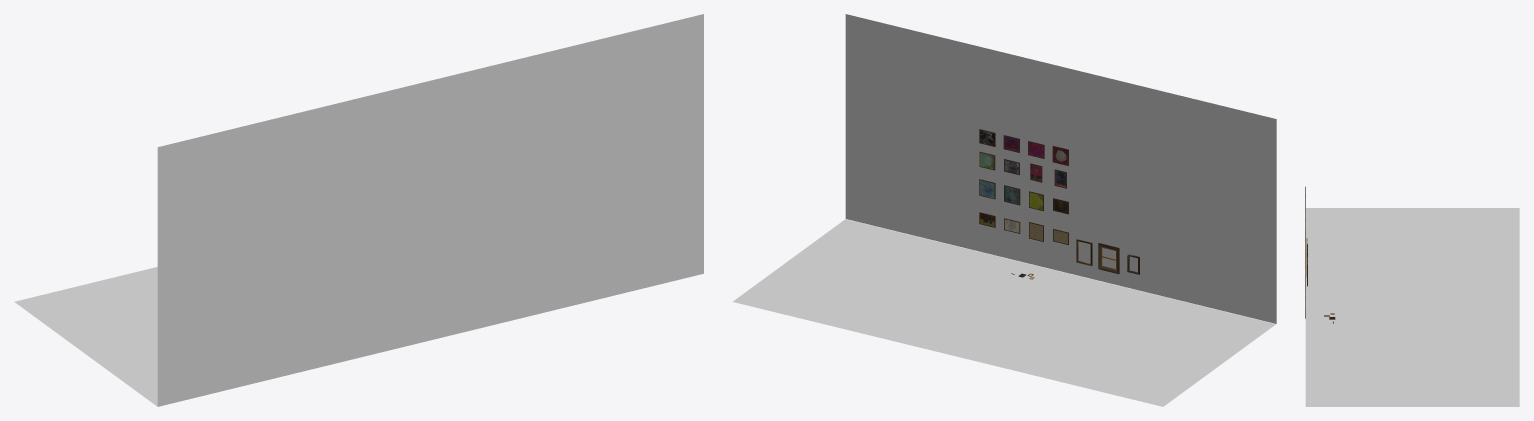
File: paintings-and-frames.fbx
3 views of the same model, side by side, from view 1: azimuth 30°, elevation 25°; view 2: azimuth 150°, elevation 25°; view 3: azimuth 270°, elevation 25° (orthographic). The views are drawn at different scales.
Parts seen in each view (by area): view 1: Plano.001, Plano; view 2: Plano.001, Plano; view 3: Plano.
Boxes of the visible parts, bbox=[...] form: Plano.001: bbox=[157, 14, 703, 406]; Plano: bbox=[14, 267, 157, 406]; Plano.001: bbox=[845, 14, 1276, 323]; Plano: bbox=[733, 219, 1275, 406]; Plano: bbox=[1305, 208, 1519, 406].
Size of the model in its own units: 1760 by 800 by 802.
